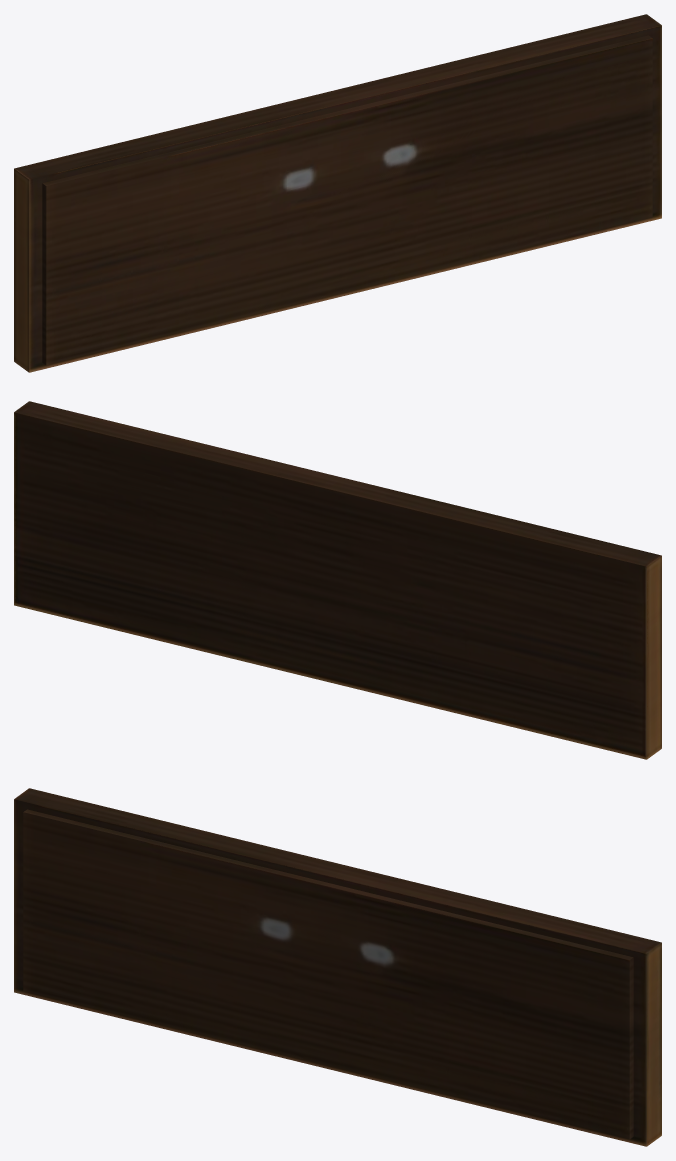
Rendered from link_4__drawer_front-120.glb.
3 views of the same model, one above another, from view 1: azimuth 30°, elevation 25°; view 2: azimuth 150°, elevation 25°; view 3: azimuth 330°, elevation 25° (orthographic).
Visible parts, largest first — view 1: world; view 2: world; view 3: world.
Part boxes in pixels (x1,y1,x2,y2): world: (14,14,661,372); world: (14,401,661,759); world: (14,788,661,1146).
Bounding box in the file's own units: 0.5041 × 0.147 × 0.0263.
1 material, 1 textured.
